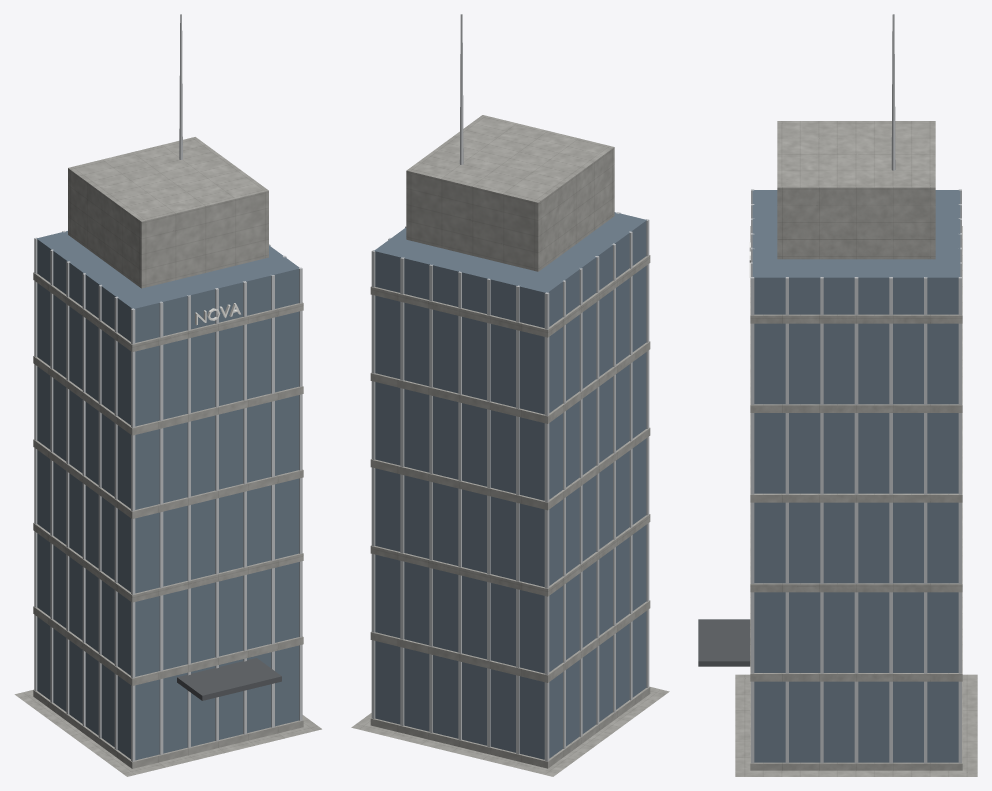
Rendered from office_0.gltf.
The picture shows the model from 3 angles, left to right: view 1: azimuth 30°, elevation 25°; view 2: azimuth 150°, elevation 25°; view 3: azimuth 270°, elevation 25°; orthographic projection. The views are drawn at different scales.
Visible parts, largest first — view 1: office_0; view 2: office_0; view 3: office_0.
Boxes of the visible parts, x1=… form: office_0: x1=14, y1=14, x2=321, y2=776; office_0: x1=351, y1=14, x2=669, y2=776; office_0: x1=698, y1=14, x2=977, y2=776.
Size of the model in its own units: 1.96 by 6.5 by 2.26.
Materials: 5 (1 with a texture image).
